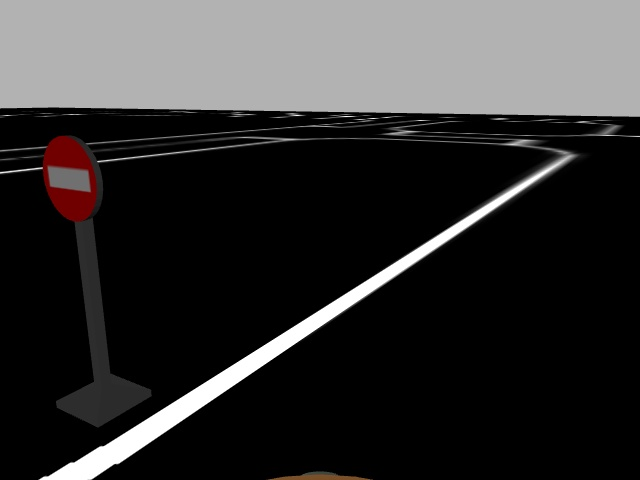prohibited: (42, 134, 105, 222)
